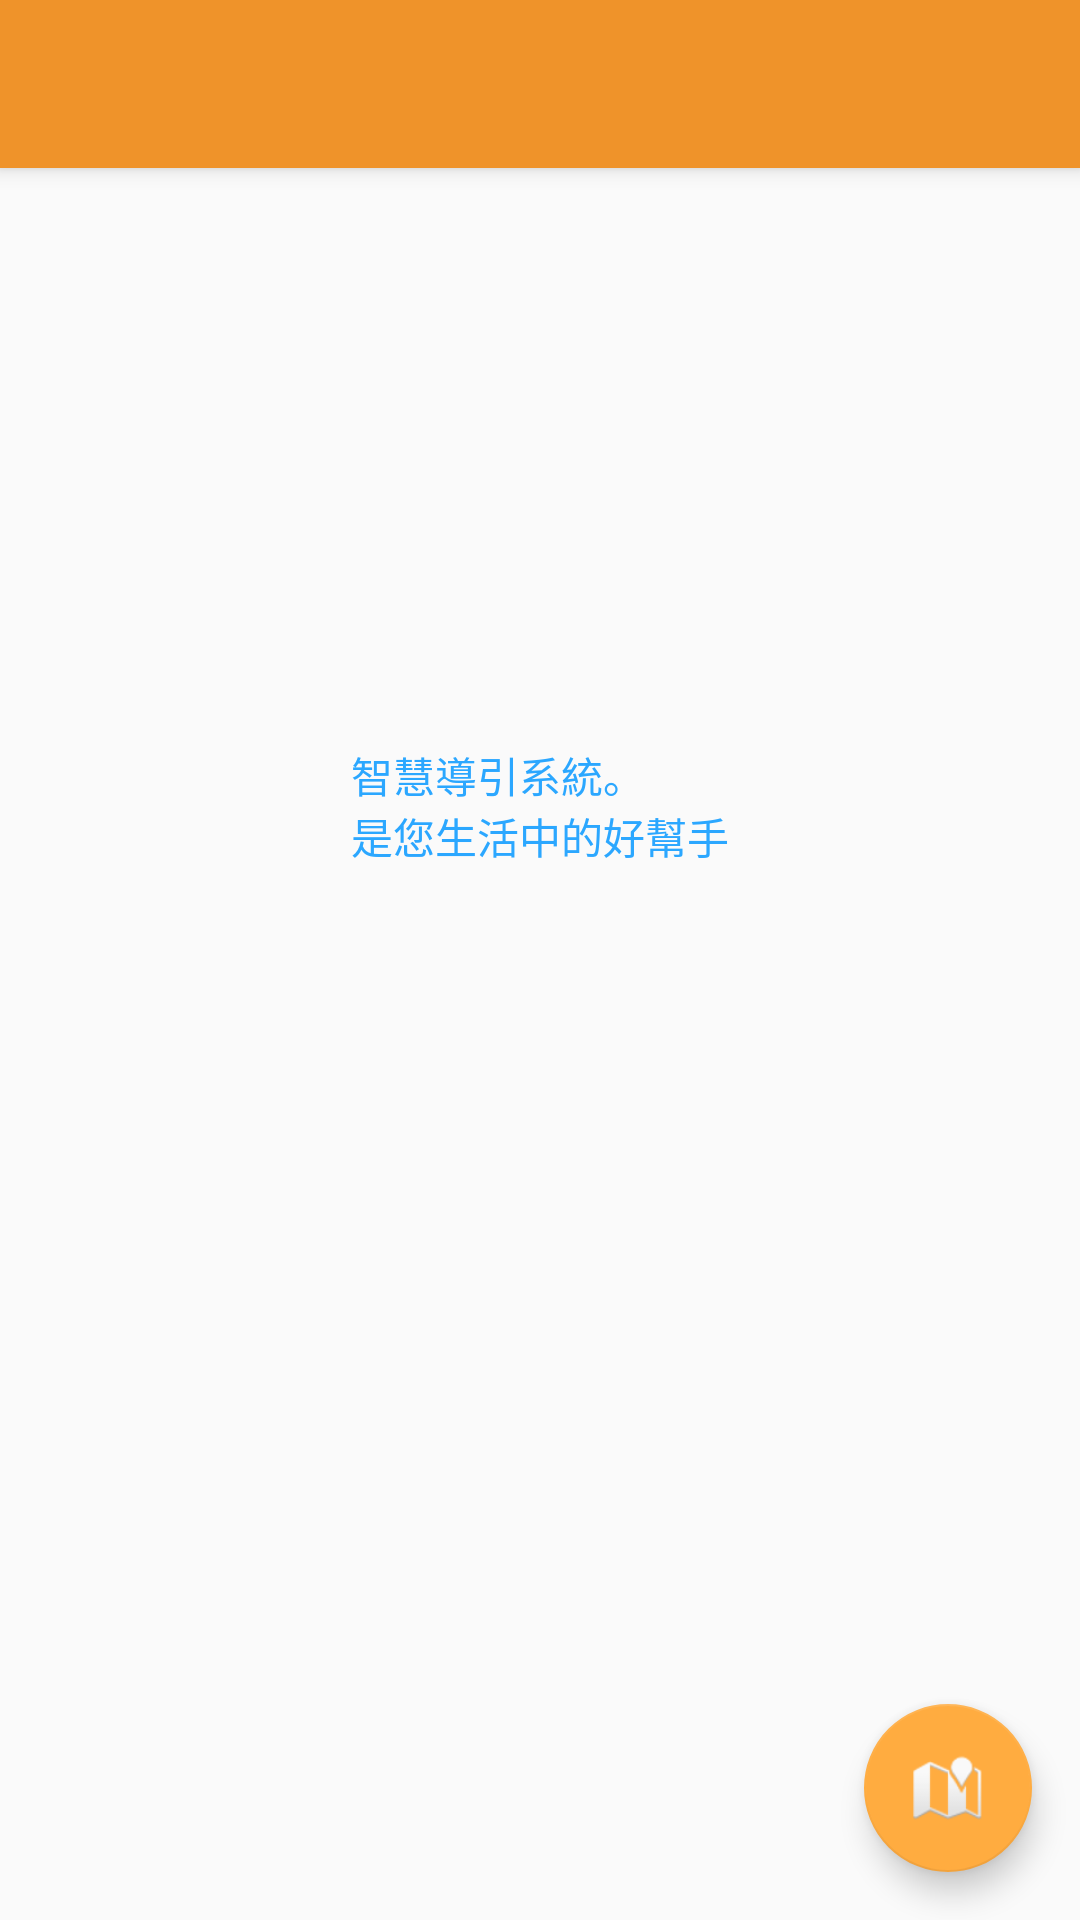

Screen size 1080 × 1920. Icon name, then its center in pixels as point (x, y):
map: point (948, 1788)
